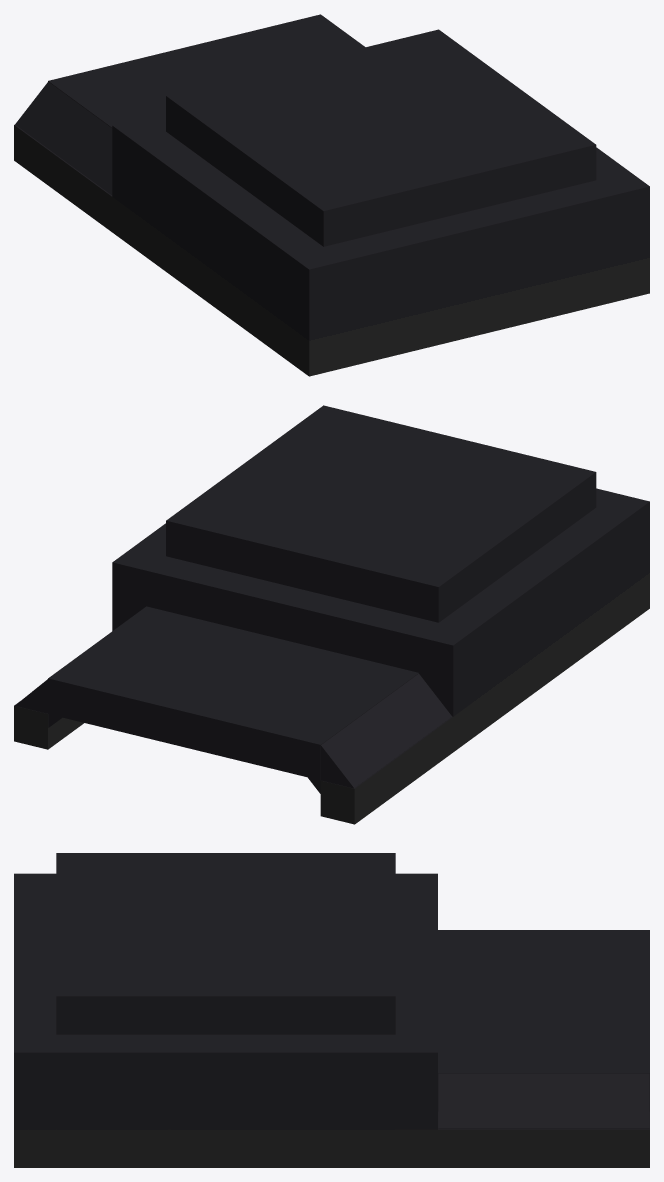
File: simple_suit_caps.dae
3 renders of one model, top to bottom at view 1: azimuth 30°, elevation 25°; view 2: azimuth 150°, elevation 25°; view 3: azimuth 270°, elevation 25°, orthographic. The views are drawn at different scales.
Parts seen in each view (by area): view 1: head (×9); view 2: head (×10); view 3: head (×8).
Part boxes in pixels (bbox=[...]): head (×9): bbox=[14, 14, 649, 376]; head (×10): bbox=[14, 405, 649, 824]; head (×8): bbox=[14, 853, 649, 1167].
Size of the model in its own units: 0.625 by 0.25 by 0.9375.
1 material, 1 textured.
